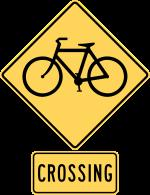Cycle Crossing: (7, 7, 146, 191)
